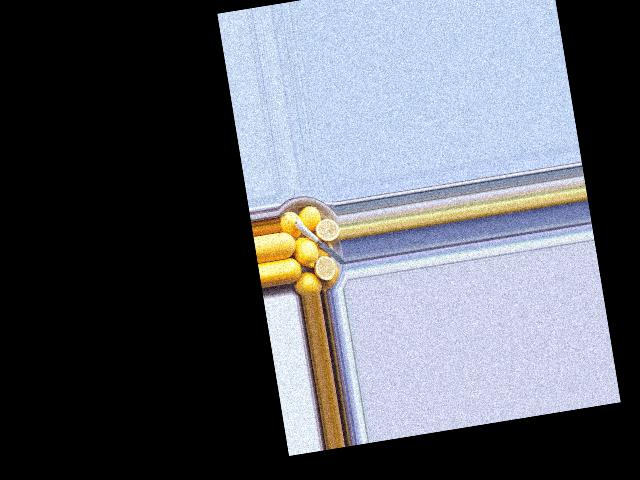lemon: (292, 267, 325, 296)
